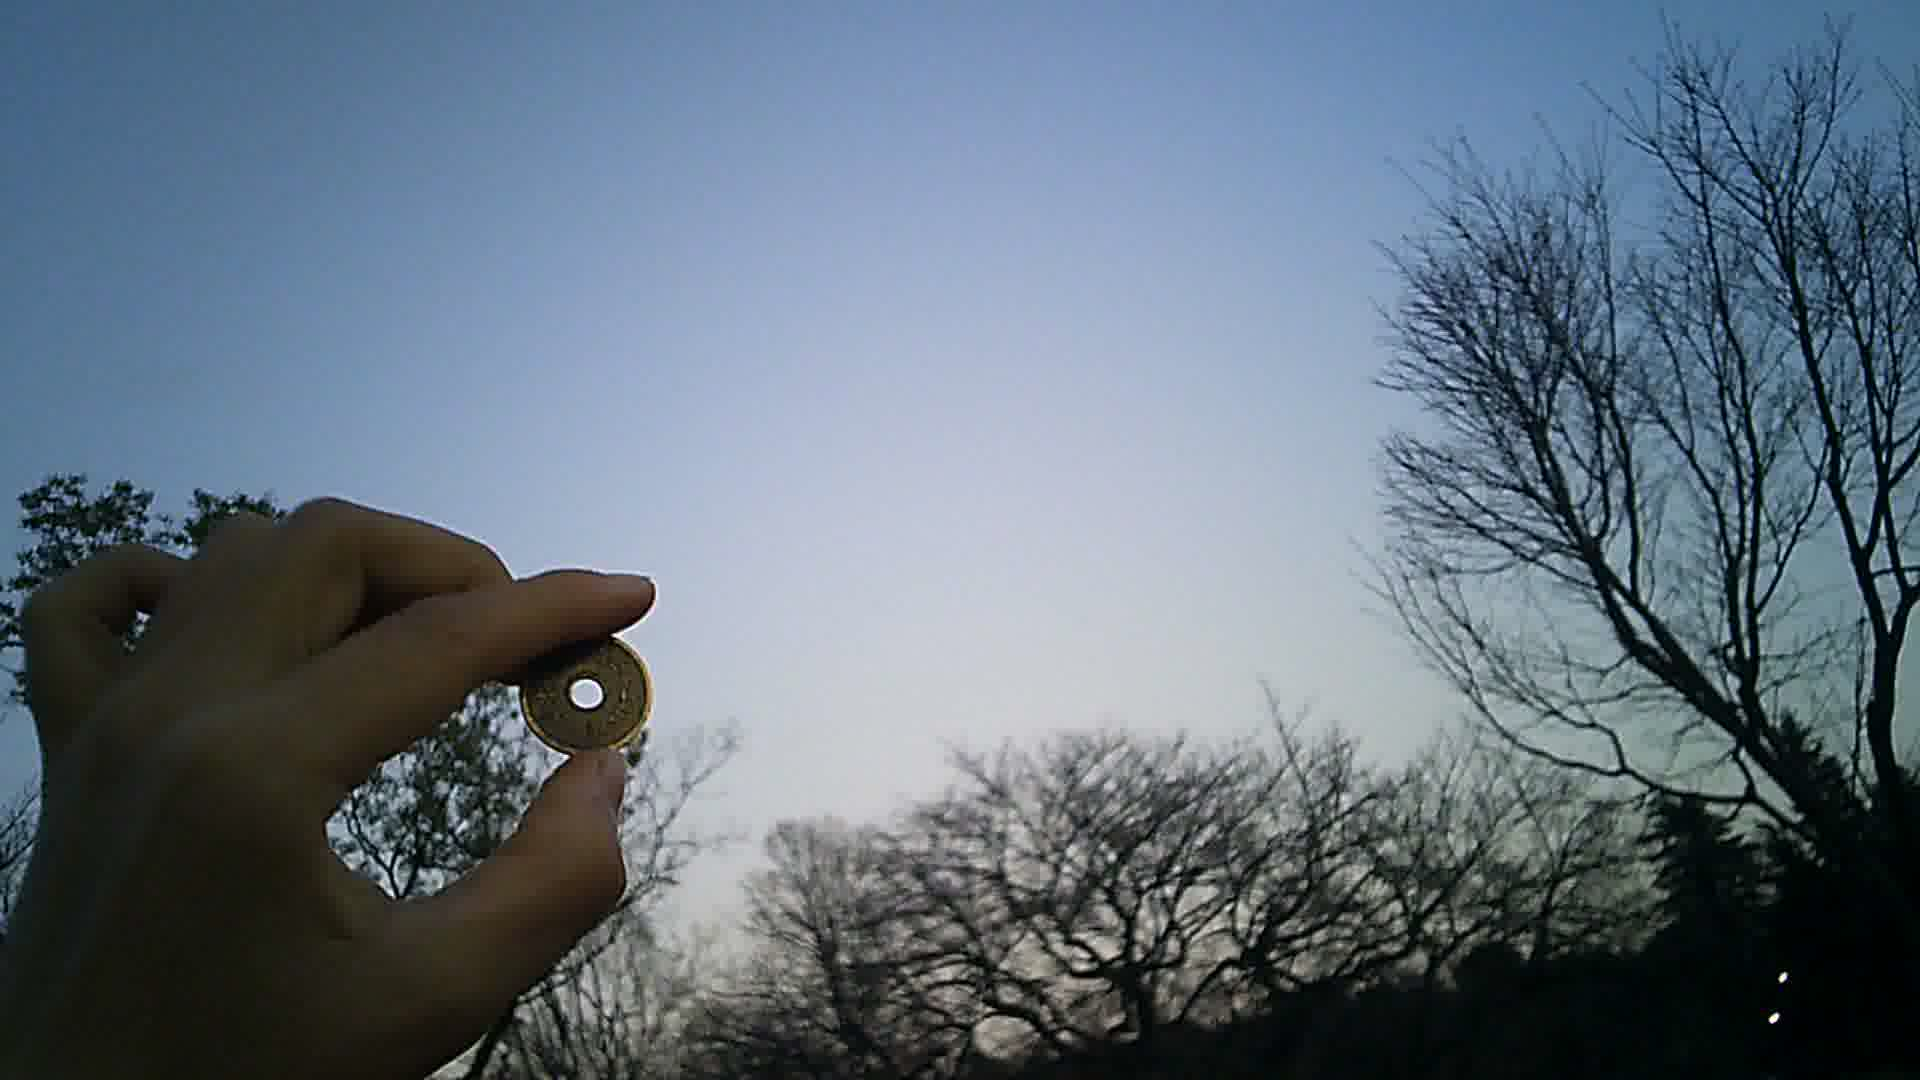5 Yen: (520, 633, 655, 757)
